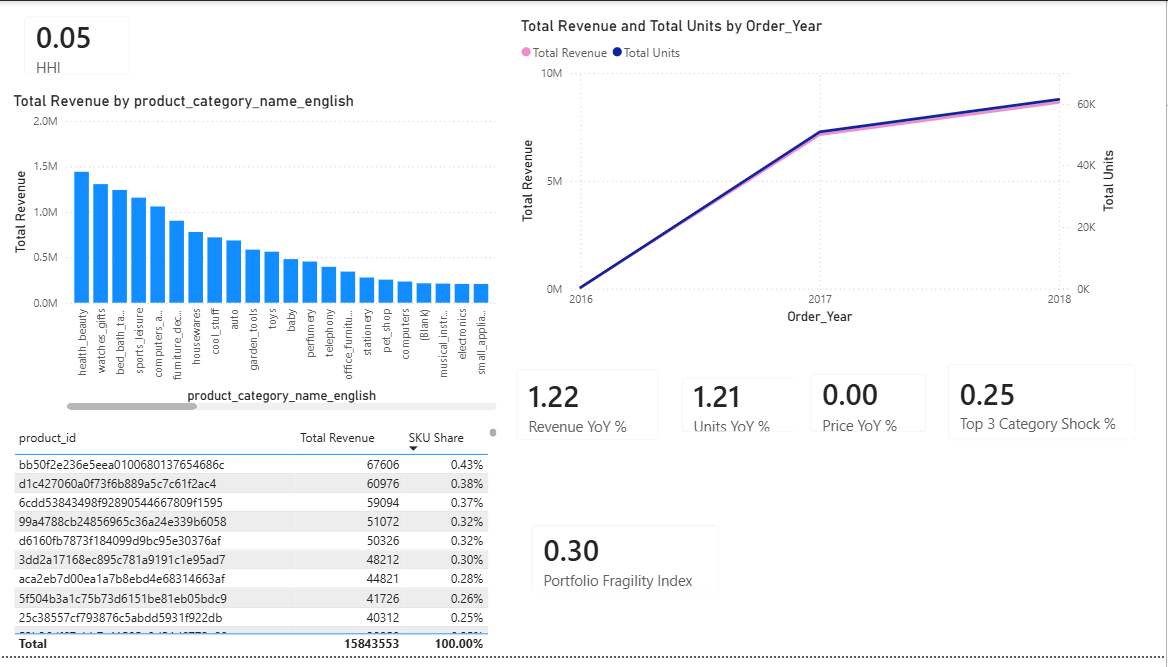

This screenshot's page, from the dashboard's own definition file:
{"tool":"powerbi","page":{"name":"Market and Revenue Structure","canvas":[1280,720],"ordinal":0},"visuals":[{"type":"clusteredColumnChart","fields":{"Category":["product_category_name_translation.product_category_name_english"],"Y":["olist_order_items_dataset.Total Revenue"]},"box":[9.6,98.8,540.7,355.4],"z":0},{"type":"cardVisual","fields":{"Data":["olist_order_items_dataset.HHI"]},"box":[9.6,0,150.9,98.8],"z":1},{"type":"lineChart","fields":{"Category":["olist_orders_dataset.Order_Year"],"Y":["olist_order_items_dataset.Total Revenue"],"Y2":["olist_order_items_dataset.Total Units"]},"box":[566.7,16.5,662.8,343.1],"z":2},{"type":"cardVisual","fields":{"Data":["olist_order_items_dataset.Revenue YoY %"]},"box":[550.3,387,190.7,112.5],"z":3},{"type":"cardVisual","fields":{"Data":["olist_order_items_dataset.Units YoY %"]},"box":[731.4,396.6,222.3,94.7],"z":4},{"type":"cardVisual","fields":{"Data":["olist_order_items_dataset.Price YoY %"]},"box":[872.7,392.5,161.9,98.8],"z":5},{"type":"tableEx","fields":{"Values":["olist_products_dataset.product_id","olist_order_items_dataset.Total Revenue","olist_order_items_dataset.SKU Share"]},"box":[10,464,541,256],"z":6},{"type":"cardVisual","fields":{"Data":["olist_order_items_dataset.Top 3 Category Shock %"]},"box":[1023.7,381.5,240.1,118],"z":7},{"type":"cardVisual","fields":{"Data":["olist_order_items_dataset.Portfolio Fragility Index"]},"box":[566.7,558.5,240.1,108.4],"z":8}]}

Visuals, with their boxes in screenshot pixels (x1, y1, x2, y2), scaled from the page's 1280x720 canvas onto the 1168x667 screenshot:
clusteredColumnChart - product_category_name_translation.product_category_name_english x olist_order_items_dataset.Total Revenue: x1=9, y1=92, x2=502, y2=421
cardVisual - olist_order_items_dataset.HHI: x1=9, y1=0, x2=146, y2=92
lineChart - olist_orders_dataset.Order_Year x olist_order_items_dataset.Total Revenue: x1=517, y1=15, x2=1122, y2=333
cardVisual - olist_order_items_dataset.Revenue YoY %: x1=502, y1=359, x2=676, y2=463
cardVisual - olist_order_items_dataset.Units YoY %: x1=667, y1=367, x2=870, y2=455
cardVisual - olist_order_items_dataset.Price YoY %: x1=796, y1=364, x2=944, y2=455
tableEx - olist_products_dataset.product_id x olist_order_items_dataset.Total Revenue: x1=9, y1=430, x2=503, y2=666
cardVisual - olist_order_items_dataset.Top 3 Category Shock %: x1=934, y1=353, x2=1153, y2=463
cardVisual - olist_order_items_dataset.Portfolio Fragility Index: x1=517, y1=517, x2=736, y2=618
